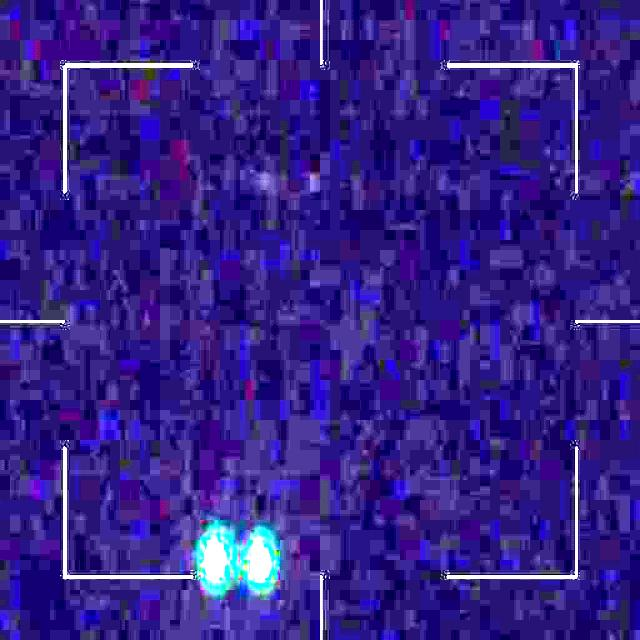bird: (201, 532, 275, 589)
